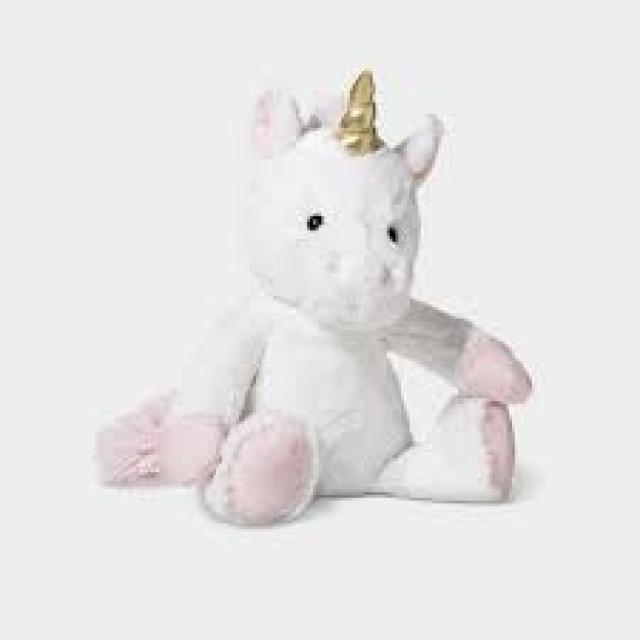soft-toy: (97, 71, 534, 527)
